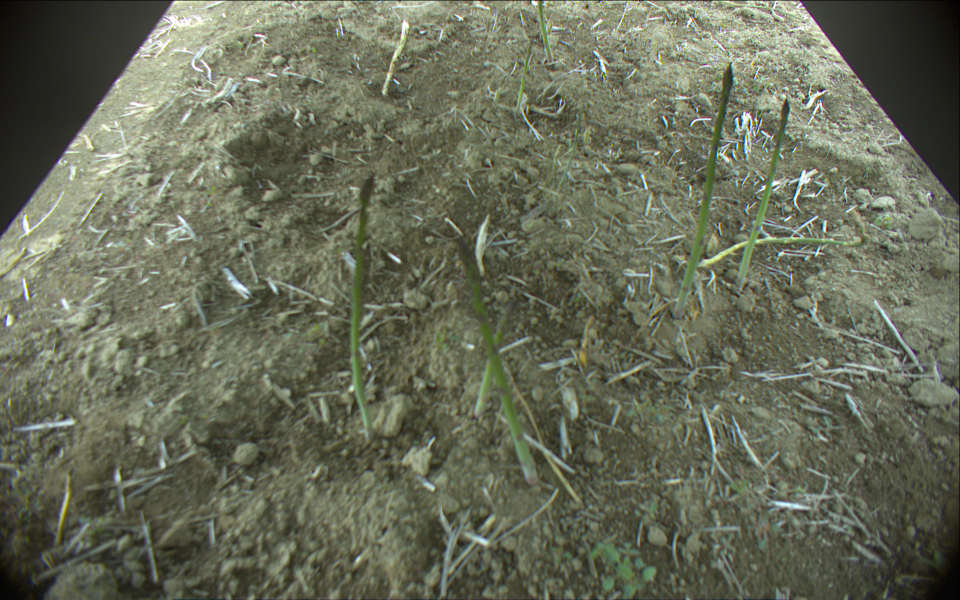aspa: (452, 237, 542, 486), (671, 63, 733, 318), (736, 96, 789, 292), (350, 172, 375, 444), (471, 291, 517, 421), (699, 235, 858, 269), (512, 34, 535, 114), (534, 1, 557, 66)
